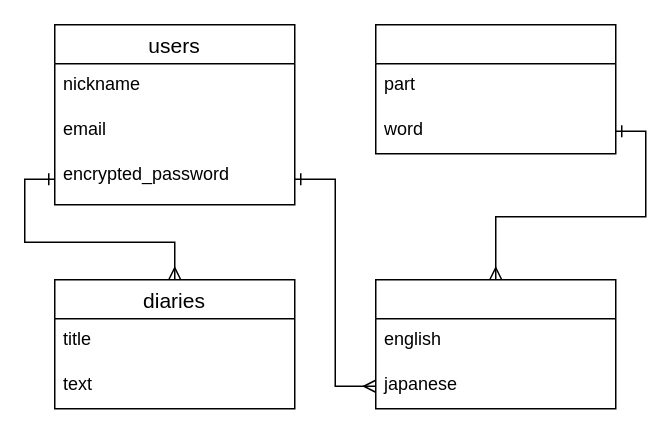
This 671x434 diagram has some shape labels left out. Each missing label, with the box of its shape:
contents: (374, 23, 616, 154)
sentences: (374, 278, 616, 409)
